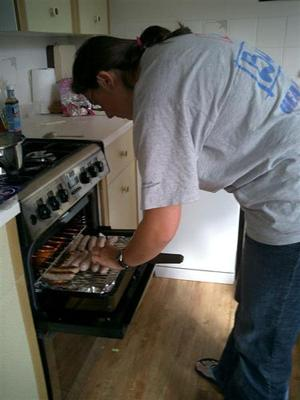person: (71, 24, 300, 400)
